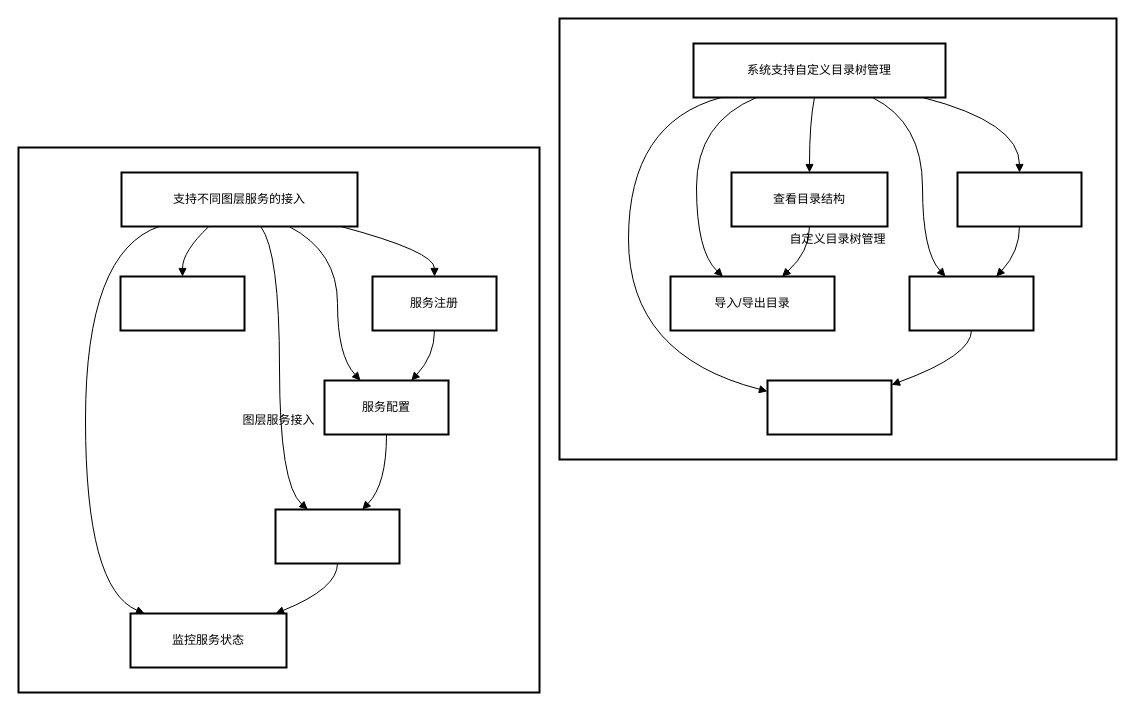
This 1134x710 diagram has some shape labels left out. The shapes that lost their labels are listed below. From the top down, each one's centre as x and y in pixels, then its label:
At point 1019,199: "创建目录".
At point 182,303: "服务卸载".
At point 971,303: "编辑目录".
At point 829,407: "删除目录".
At point 337,536: "服务调用".
